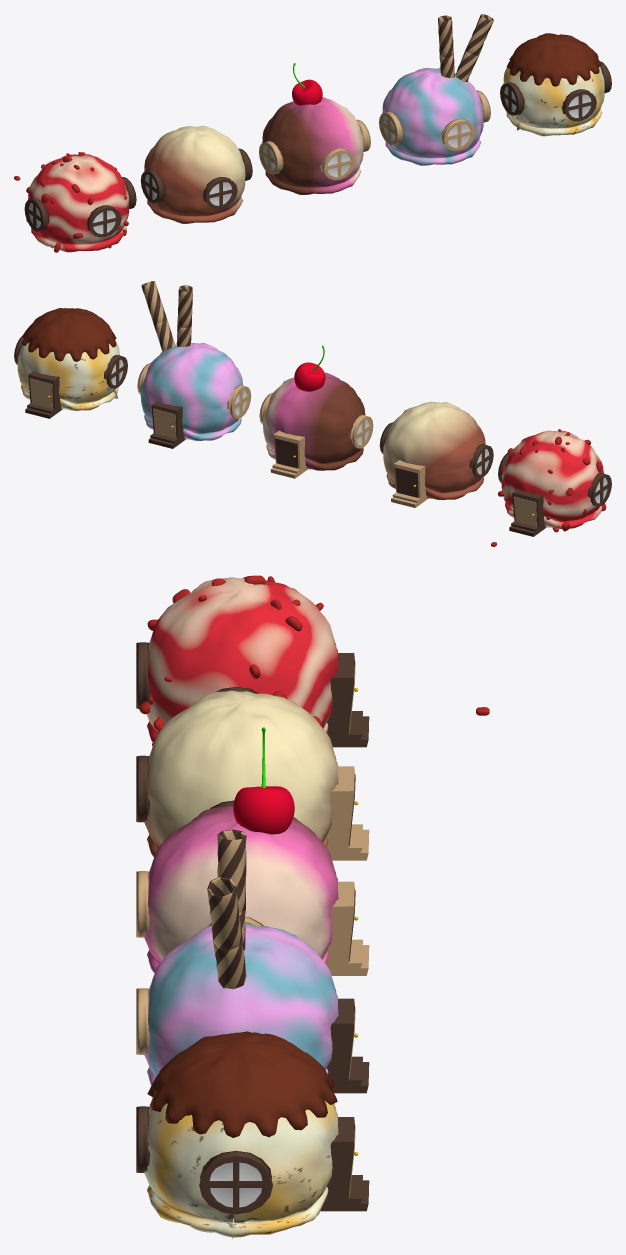
Rendered from Casas de Sorvetes.fbx.
3 renders of one model, top to bottom at view 1: azimuth 30°, elevation 25°; view 2: azimuth 150°, elevation 25°; view 3: azimuth 270°, elevation 25°, orthographic. The views are drawn at different scales.
Parts seen in each view (by area): view 1: Carimbo, Doce de Leite, Algodão Doce, Napolitania, Red Velvet, Canudinho.1, Canudinho.2, Janela.5.3, Janela.3.3, Janela.1.3, Janela.2.3, Janela.4.2 (+6 smaller); view 2: Carimbo, Doce de Leite, Algodão Doce, Red Velvet, Napolitania, Circle, Circle.004, Circle.003, Circle.001, Circle.002, Canudinho.1, Canudinho.2 (+6 smaller); view 3: Carimbo, Red Velvet, Doce de Leite, Algodão Doce, Napolitania, Janela.3.1, Canudinho.1, Circle.004, Cereja, Circle.001, Circle.002, Circle.003 (+6 smaller).
Part boxes in pixels (box(x1,y1,x2,y2)): Carimbo: box(503, 33, 604, 136); Doce de Leite: box(144, 125, 245, 223); Algodão Doce: box(382, 68, 483, 165); Napolitania: box(262, 97, 363, 194); Red Velvet: box(28, 154, 129, 252); Canudinho.1: box(455, 14, 493, 81); Canudinho.2: box(438, 15, 454, 78); Janela.5.3: box(86, 205, 121, 237); Janela.3.3: box(561, 89, 596, 121); Janela.1.3: box(320, 148, 355, 180); Janela.2.3: box(440, 118, 475, 150); Janela.4.2: box(202, 177, 237, 208); Carimbo: box(17, 308, 119, 410); Doce de Leite: box(383, 401, 485, 499); Algodão Doce: box(140, 343, 243, 440); Red Velvet: box(501, 430, 603, 528); Napolitania: box(263, 372, 365, 470); Circle: box(148, 401, 185, 448); Circle.004: box(25, 371, 62, 418); Circle.003: box(509, 489, 546, 536); Circle.001: box(270, 430, 307, 478); Circle.002: box(391, 460, 428, 507); Canudinho.1: box(141, 281, 175, 351); Canudinho.2: box(176, 285, 192, 346); Carimbo: box(144, 1031, 338, 1238); Red Velvet: box(146, 577, 338, 743); Doce de Leite: box(144, 690, 338, 857); Algodão Doce: box(144, 923, 338, 1085); Napolitania: box(144, 806, 338, 973); Janela.3.1: box(199, 1150, 272, 1214); Canudinho.1: box(207, 876, 246, 989); Circle.004: box(320, 1117, 369, 1211); Cereja: box(233, 727, 294, 834); Circle.001: box(326, 881, 369, 975); Circle.002: box(326, 766, 369, 860); Circle.003: box(326, 653, 369, 747).
Bounding box in the file's own units: 4746 × 1042 × 1276.
